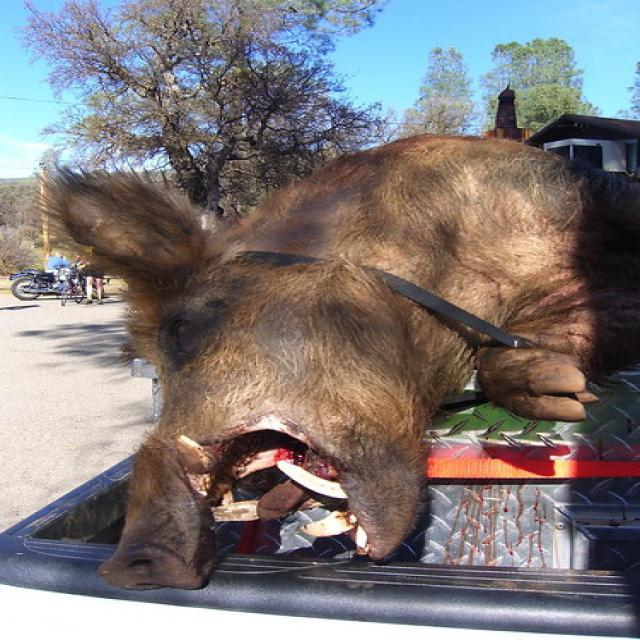boar: (31, 93, 628, 613)
